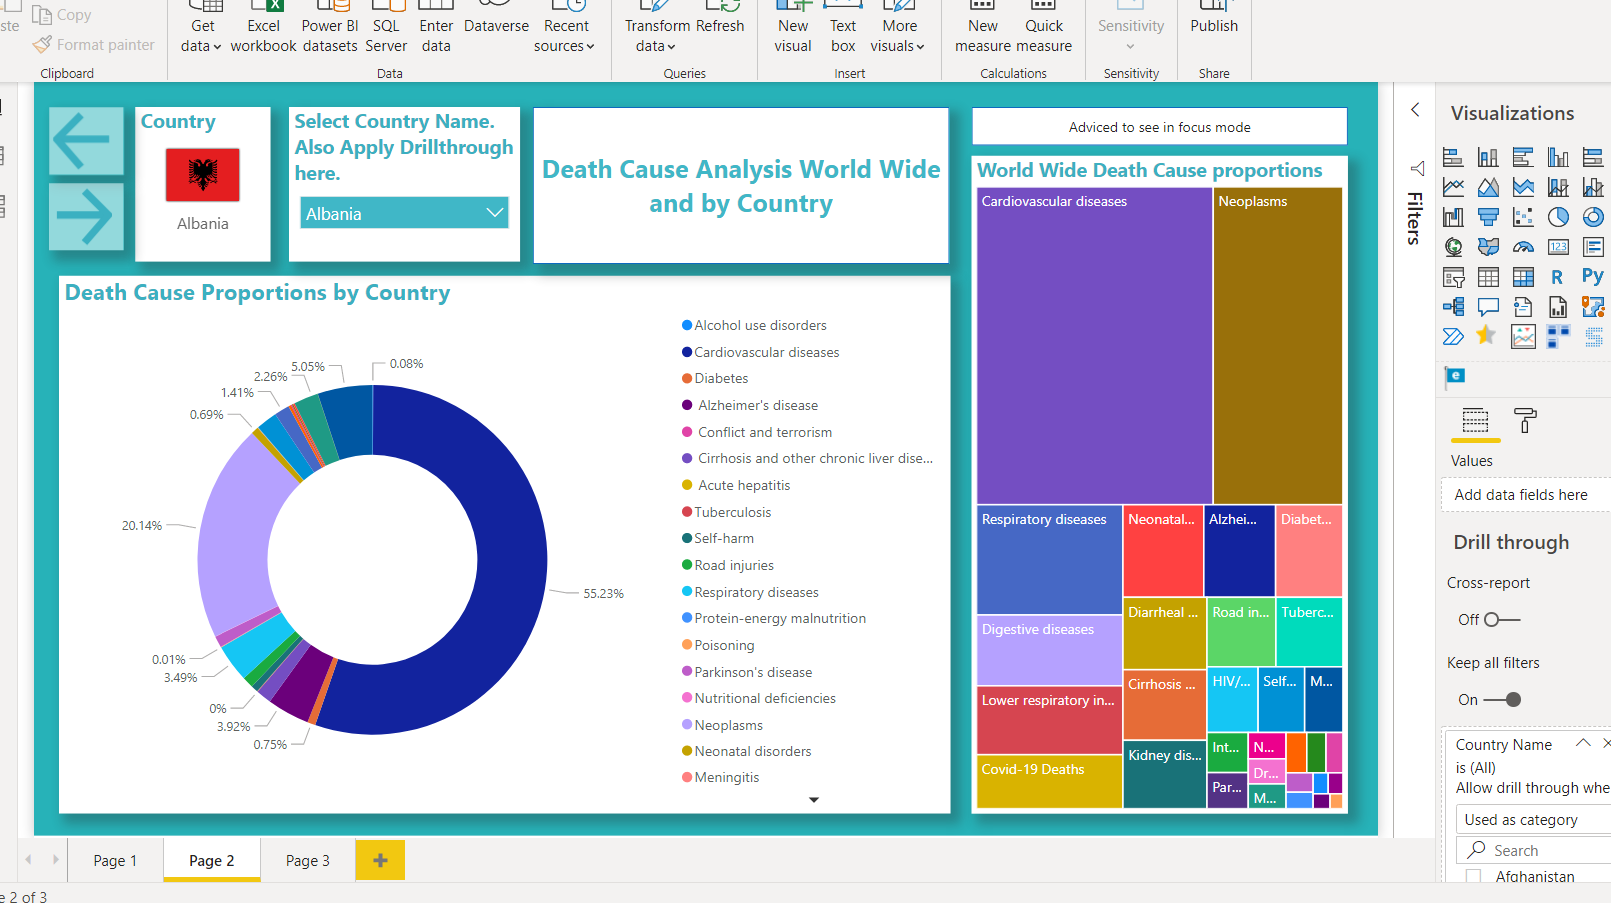

The dashboard page shown, as its layout file describes it:
{"tool":"powerbi","page":{"name":"Page 2","canvas":[1280,720],"ordinal":1},"visuals":[{"type":"enlightenWorldFlagsE887F52F76244B1C927F80CF9724AEF6","title":"Country","fields":{"code":["Death Cause Reason by Country.Country Name"]},"box":[96.1,23.3,129.1,147],"z":0},{"type":"donutChart","title":"Death Cause Proportions by Country","fields":{"Y":["Sum(Death Cause Reason by Country.Alcohol use disorders)","Sum(Death Cause Reason by Country.Cardiovascular diseases)","Sum(Death Cause Reason by Country.Diabetes )","Sum(Death Cause Reason by Country. Alzheimer's disease)","Sum(Death Cause Reason by Country. Conflict and terrorism)","Sum(Death Cause Reason by Country. Cirrhosis and other chronic liver diseases)","Sum(Death Cause Reason by Country. Acute hepatitis)","Sum(Death Cause Reason by Country.Tuberculosis)","Sum(Death Cause Reason by Country.Self-harm)","Sum(Death Cause Reason by Country.Road injuries)","Sum(Death Cause Reason by Country.Respiratory diseases )","Sum(Death Cause Reason by Country.Protein-energy malnutrition)"]},"box":[23.3,184,848.8,512.3],"z":1000},{"type":"slicer","title":"Select Country Name. Also Apply Drillthrough here.","fields":{"Values":["Death Cause Reason by Country.Country Name"]},"box":[243.1,23.3,219.7,147],"z":2000},{"type":"treemap","title":"World Wide Death Cause proportions","fields":{"Values":["Sum(Death Cause Reason by Country. Acute hepatitis)","Sum(Death Cause Reason by Country. Alzheimer's disease)","Sum(Death Cause Reason by Country. Cirrhosis and other chronic liver diseases)","Sum(Death Cause Reason by Country. Conflict and terrorism)","Sum(Death Cause Reason by Country.Alcohol use disorders)","Sum(Death Cause Reason by Country.Cardiovascular diseases)","Sum(Death Cause Reason by Country.Covid-19 Deaths)","Sum(Death Cause Reason by Country.Lower respiratory infections)","Sum(Death Cause Reason by Country.Kidney diseases)","Sum(Death Cause Reason by Country.Interpersonal violence)","Sum(Death Cause Reason by Country.HIV/AIDS)","Sum(Death Cause Reason by Country.Fire, heat)"]},"box":[892.7,70,358.5,626.3],"z":3000},{"type":"shape","box":[892.7,23.3,358.5,37.1],"z":4000},{"type":"shape","box":[475.2,23.3,396.9,149.7],"z":5000},{"type":"actionButton","box":[13.7,23.3,71.4,64.5],"z":6000},{"type":"actionButton","box":[14.3,96.4,71.4,64.3],"z":6001}]}

Visuals, with their boxes on the page's 1280x720 design canvas (x1, y1, x2, y2). These are canvas units, not pixel positions in the 1611x903 screenshot, which may show the page scaled, cropped or inside an application window:
"Country" enlightenWorldFlagsE887F52F76244B1C927F80CF9724AEF6: [x1=96, y1=23, x2=225, y2=170]
"Death Cause Proportions by Country" donutChart: [x1=23, y1=184, x2=872, y2=696]
"Select Country Name. Also Apply Drillthrough here." slicer: [x1=243, y1=23, x2=463, y2=170]
"World Wide Death Cause proportions" treemap: [x1=893, y1=70, x2=1251, y2=696]
shape: [x1=893, y1=23, x2=1251, y2=60]
shape: [x1=475, y1=23, x2=872, y2=173]
actionButton: [x1=14, y1=23, x2=85, y2=88]
actionButton: [x1=14, y1=96, x2=86, y2=161]
